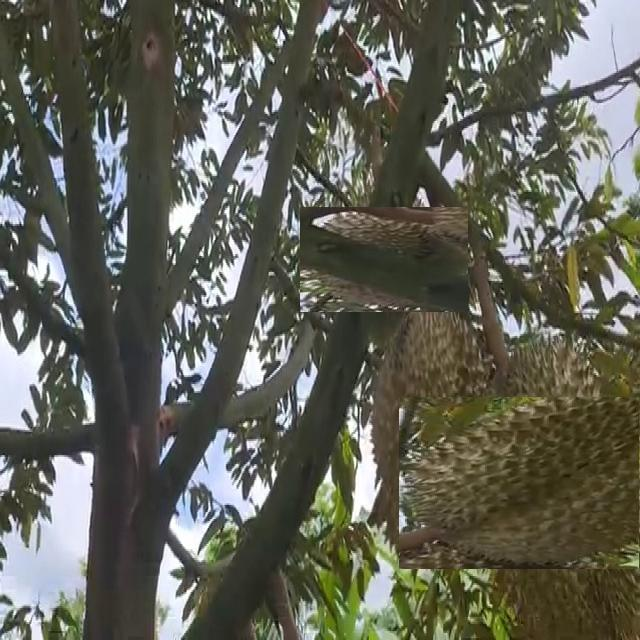durian: (432, 363, 640, 602), (370, 296, 493, 555), (316, 190, 452, 328)
